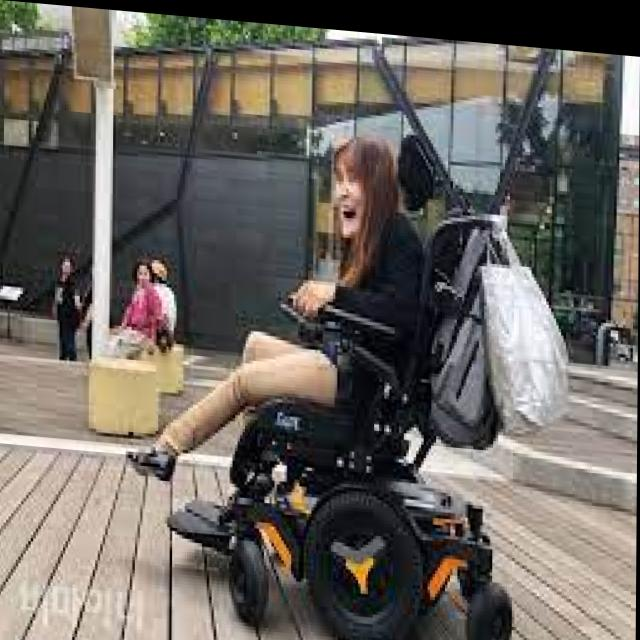wheelchair: (205, 118, 520, 640)
